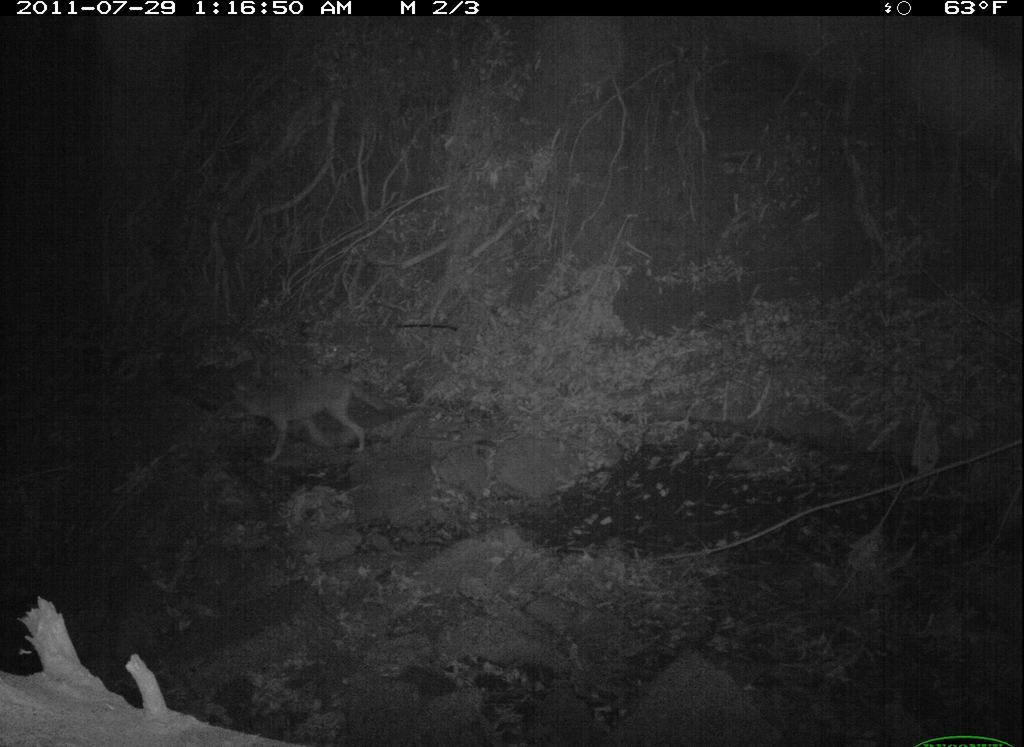coyote: (227, 375, 392, 465)
